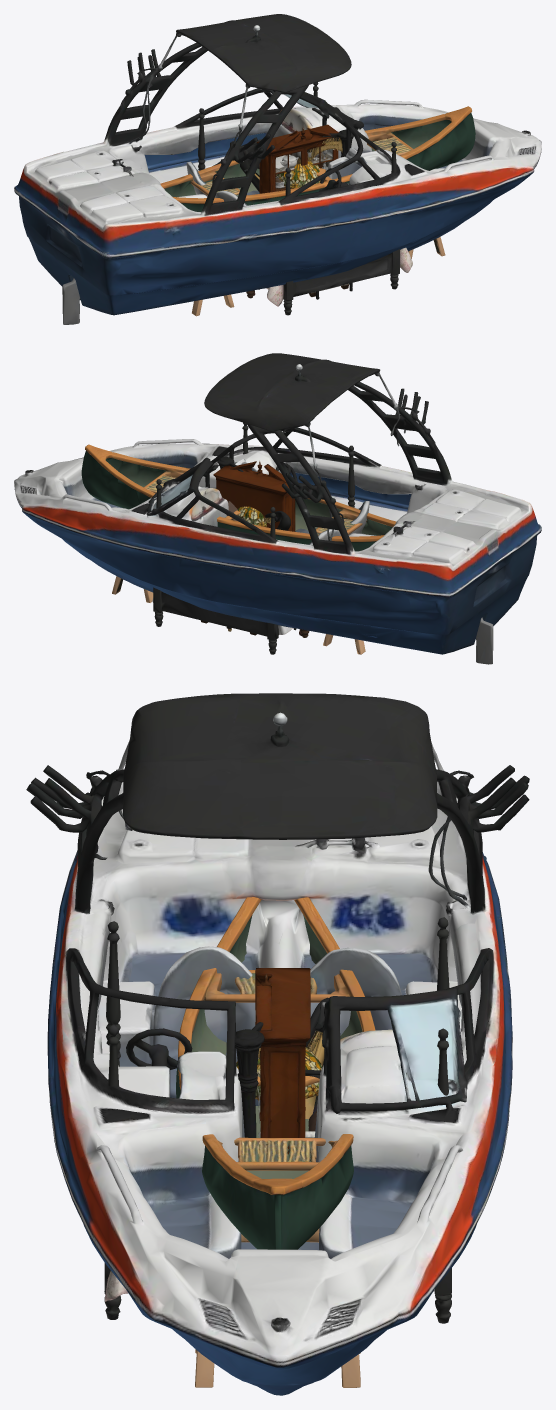
File: furniture.glb
3 renders of one model, top to bottom at view 1: azimuth 30°, elevation 25°; view 2: azimuth 150°, elevation 25°; view 3: azimuth 270°, elevation 25°, orthographic. The views are drawn at different scales.
Parts seen in each view (by area): view 1: boat, canoe, four-poster-bed, china-cabinet, harp, tiffany-lamp; view 2: boat, canoe, china-cabinet, four-poster-bed, harp, tiffany-lamp; view 3: boat, canoe, china-cabinet, four-poster-bed, harp.
Part boxes in pixels (x1=…): boat: x1=14, y1=14, x2=541, y2=324; canoe: x1=160, y1=106, x2=475, y2=316; four-poster-bed: x1=198, y1=82, x2=412, y2=315; china-cabinet: x1=256, y1=124, x2=338, y2=193; harp: x1=240, y1=129, x2=353, y2=192; tiffany-lamp: x1=276, y1=156, x2=320, y2=188; boat: x1=14, y1=353, x2=541, y2=664; canoe: x1=81, y1=444, x2=396, y2=654; china-cabinet: x1=213, y1=461, x2=295, y2=531; four-poster-bed: x1=152, y1=422, x2=355, y2=654; harp: x1=217, y1=457, x2=290, y2=530; tiffany-lamp: x1=237, y1=506, x2=266, y2=526; boat: x1=26, y1=693, x2=529, y2=1395; canoe: x1=176, y1=897, x2=375, y2=1387; china-cabinet: x1=255, y1=968, x2=310, y2=1154; four-poster-bed: x1=104, y1=917, x2=451, y2=1323; harp: x1=235, y1=997, x2=329, y2=1137.
Size of the model in its own units: 6.9 by 3.49 by 3.11.
Materials: 15 (15 with a texture image).
